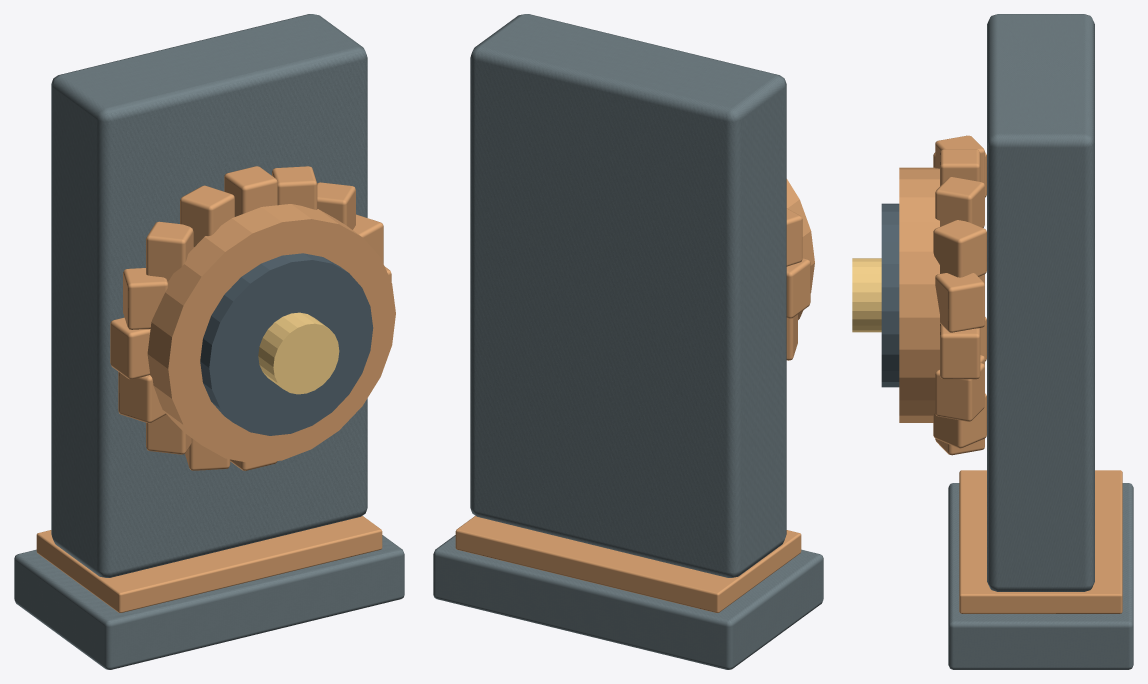
Rendered from dwarven-runeforge-dungeon-dwarven-runeforge-dungeon-va-ef0db6e6__28612.glb.
The picture shows the model from 3 angles, left to right: view 1: azimuth 30°, elevation 25°; view 2: azimuth 150°, elevation 25°; view 3: azimuth 270°, elevation 25°; orthographic projection. The views are drawn at different scales.
Visible parts, largest first — view 1: dwarven-runeforge-dungeon-vault-lock, lock (×14); view 2: dwarven-runeforge-dungeon-vault-lock, lock (×3); view 3: dwarven-runeforge-dungeon-vault-lock, lock (×11).
Part boxes in pixels (x1,y1,x2,y2): dwarven-runeforge-dungeon-vault-lock: (14, 14, 404, 669); lock (×14): (110, 166, 395, 470); dwarven-runeforge-dungeon-vault-lock: (433, 14, 823, 669); lock (×3): (786, 179, 814, 319); dwarven-runeforge-dungeon-vault-lock: (948, 14, 1133, 669); lock (×11): (852, 135, 986, 448).
Size of the model in its own units: 0.9999 by 1.73 by 0.835.
5 materials, 1 textured.
